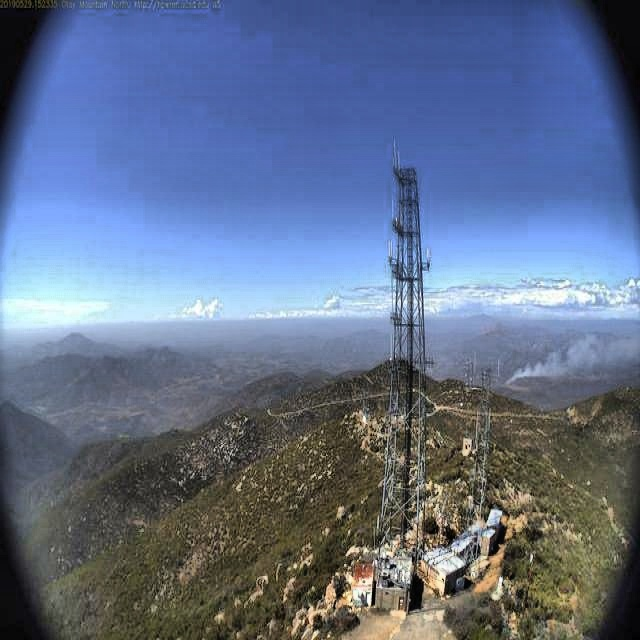smoke: (504, 332, 637, 383)
